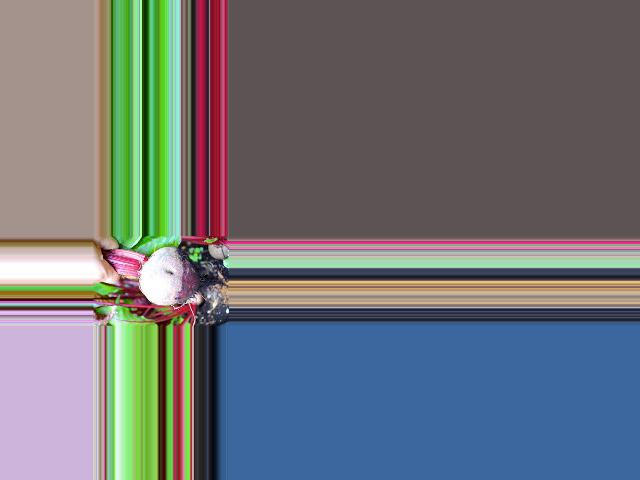beet: (101, 247, 229, 306)
